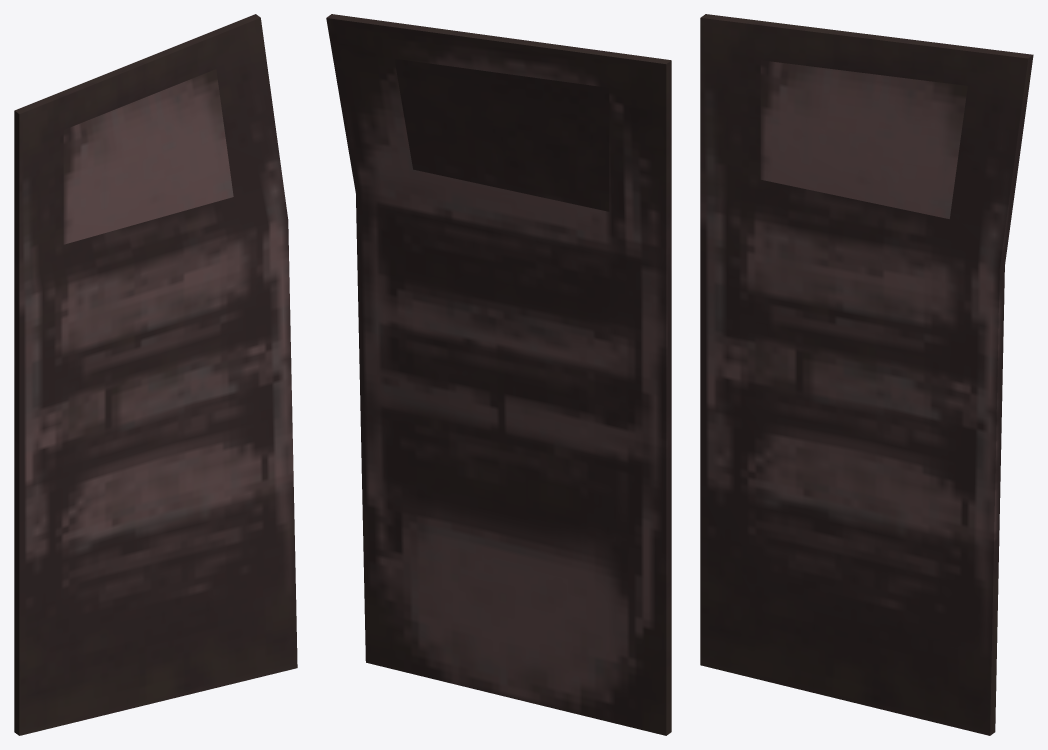
The model's file is storagecontainer1_door1.fbx.
3 views of the same model, side by side, from view 1: azimuth 30°, elevation 25°; view 2: azimuth 150°, elevation 25°; view 3: azimuth 330°, elevation 25° (orthographic). The views are drawn at different scales.
Visible parts, largest first — view 1: sc_door2; view 2: sc_door2; view 3: sc_door2.
Boxes of the visible parts, x1=… form: sc_door2: x1=14, y1=14, x2=297, y2=735; sc_door2: x1=326, y1=14, x2=671, y2=735; sc_door2: x1=700, y1=14, x2=1033, y2=735.
Size of the model in its own units: 3.19 by 6.83 by 0.8288.
